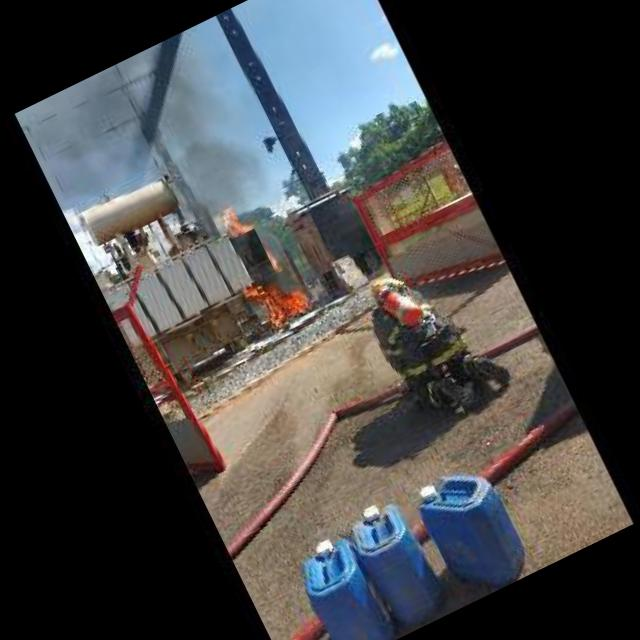fire: (242, 266, 314, 330), (213, 198, 255, 242), (263, 246, 283, 272)
smoke: (100, 21, 288, 244)
